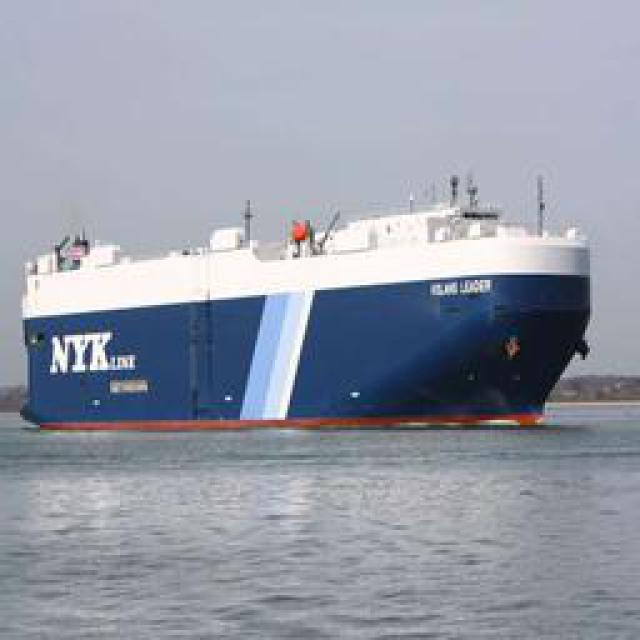Ship: (25, 186, 590, 424)
